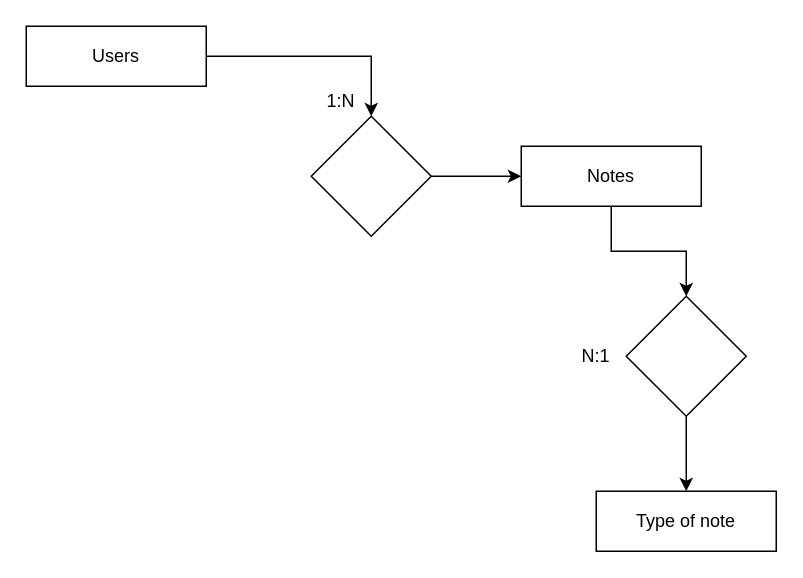
This 803x578 diagram has some shape labels left out. Each missing label, with the centre of its shape:
"has" belongs at point 370,175.
"if of type" belongs at point 685,355.
